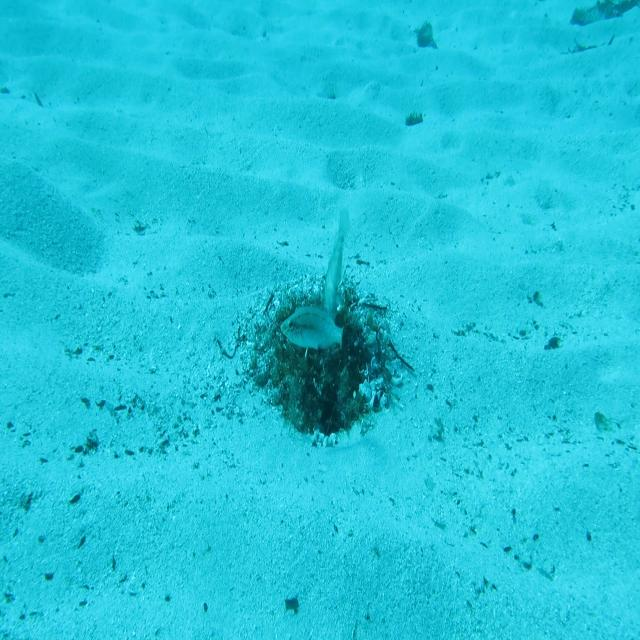NIP_CORE: (322, 206, 352, 323)
core_nest: (293, 304, 349, 342)
female: (278, 301, 345, 357)
nest: (235, 275, 405, 453)
vegetation: (566, 0, 640, 27), (412, 18, 442, 52), (283, 594, 303, 615), (403, 108, 424, 126)
